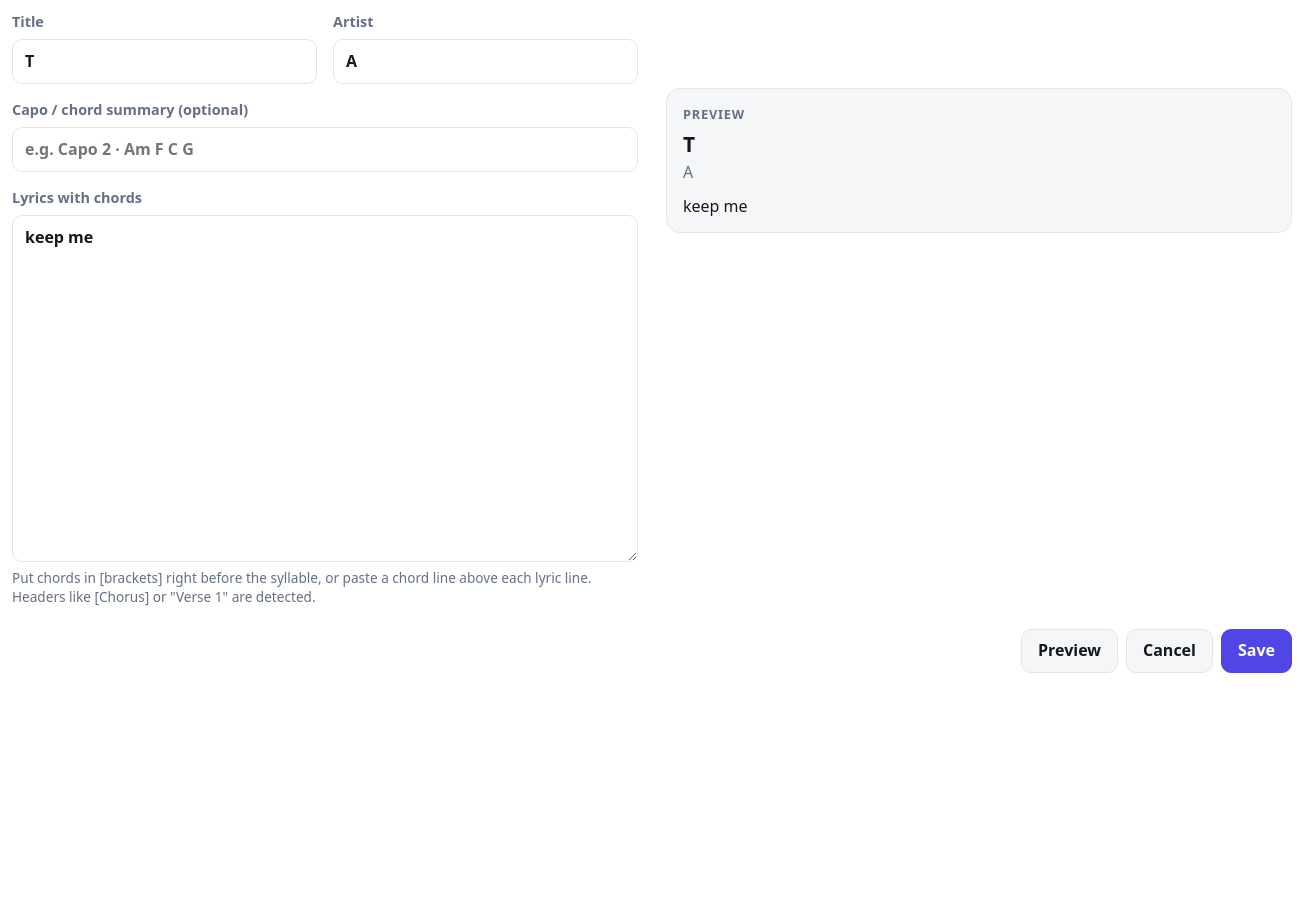
Test: song form (add and edit) › shows the error and keeps your text if saving fails
Click the button "Save": {"x": 1256, "y": 651} [1221,629,1292,673]
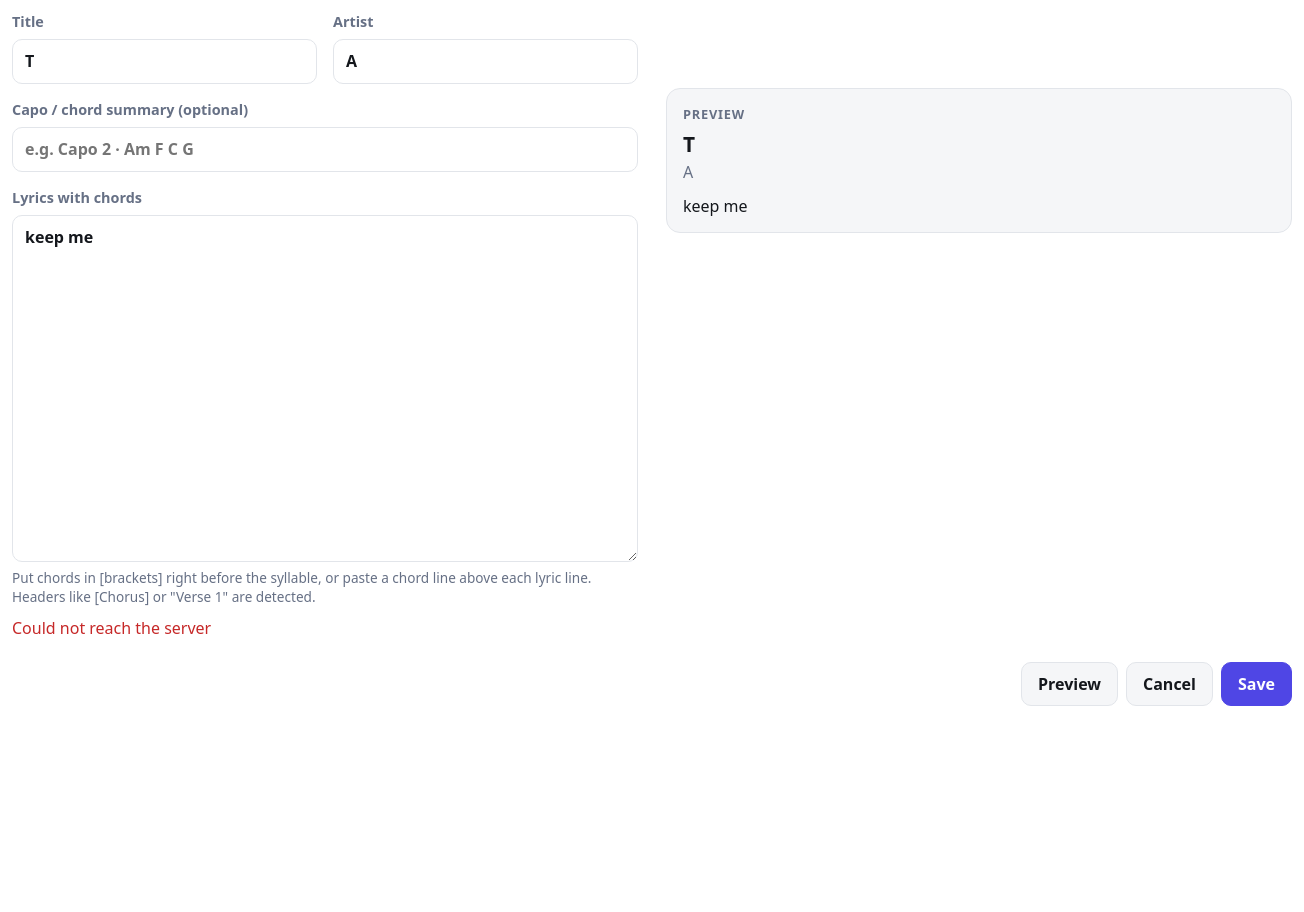
Expected: the text box labelled "Lyrics with chords" holds "keep me", [12,215,638,562]
Expected: the message shows "Could not reach", [12,617,211,639]
